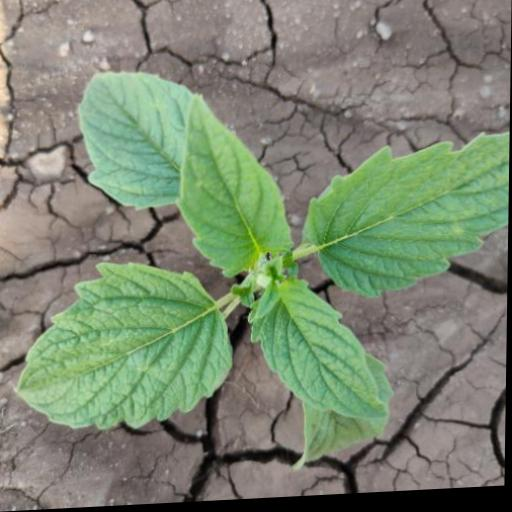crop: (11, 64, 511, 488)
